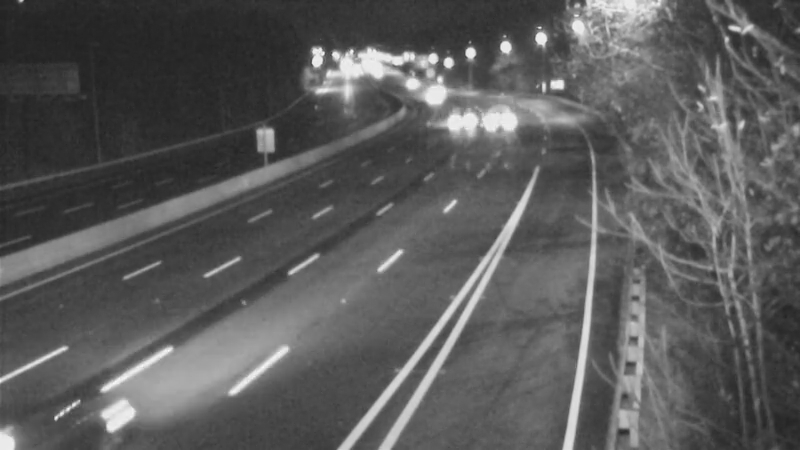vehicle: (1, 354, 109, 450), (380, 60, 430, 110), (408, 72, 458, 122), (431, 88, 481, 138), (470, 91, 520, 141)
